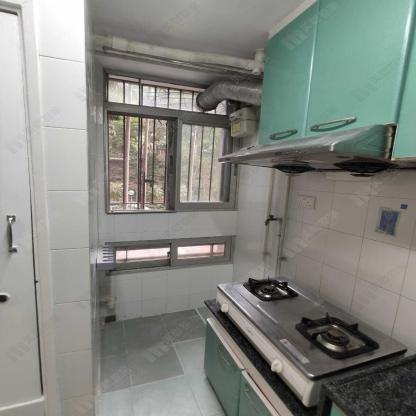Cupboard: (255, 1, 416, 159)
Exhaust Hood: (215, 124, 404, 178)
Stove: (213, 274, 412, 406)
